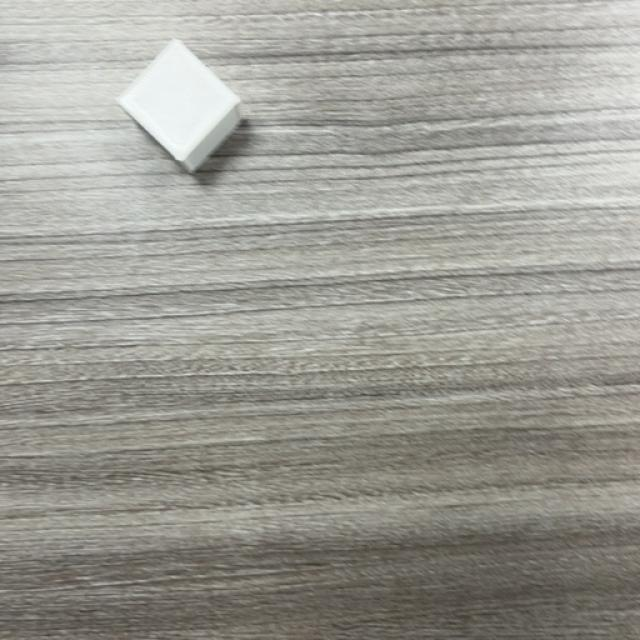Blanco: (116, 39, 244, 174)
